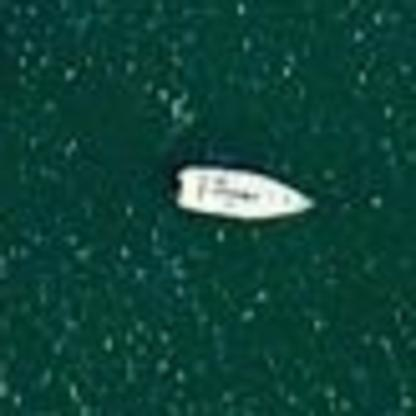ship: (169, 151, 320, 233)
